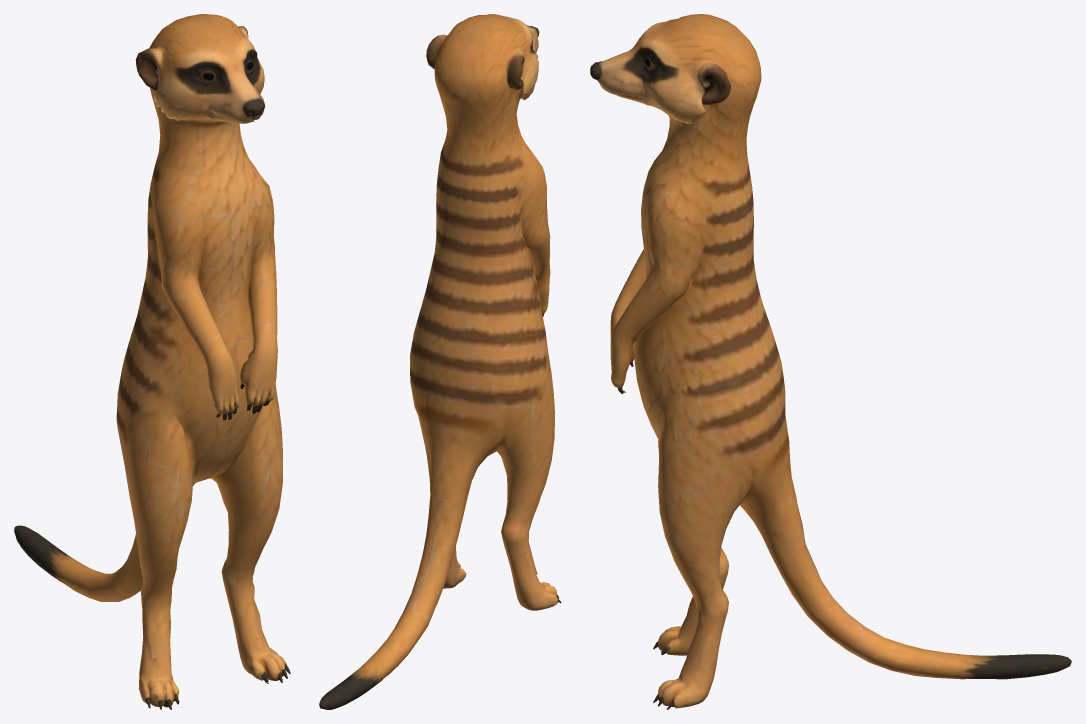
The model's file is meerkat-kai-stand.glb.
The picture shows the model from 3 angles, left to right: view 1: azimuth 30°, elevation 25°; view 2: azimuth 150°, elevation 25°; view 3: azimuth 270°, elevation 25°; orthographic projection. The views are drawn at different scales.
Visible parts, largest first — view 1: geometry_0; view 2: geometry_0; view 3: geometry_0.
Part boxes in pixels (left/top/right/bottom): geometry_0: left=14, top=14, right=290, bottom=709; geometry_0: left=319, top=14, right=561, bottom=709; geometry_0: left=590, top=14, right=1071, bottom=709.
Size of the model in its own units: 0.2177 by 0.9507 by 0.6332.
1 material, 1 textured.
